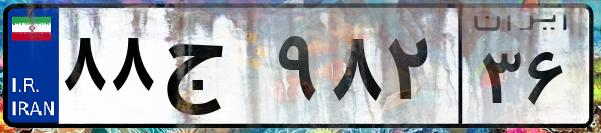2: (385, 28, 445, 110)
3: (475, 38, 525, 113)
6: (525, 38, 570, 115)
8: (330, 28, 385, 110), (57, 26, 110, 100), (110, 28, 158, 98)
9: (270, 28, 330, 110)
ج: (158, 20, 270, 120)
